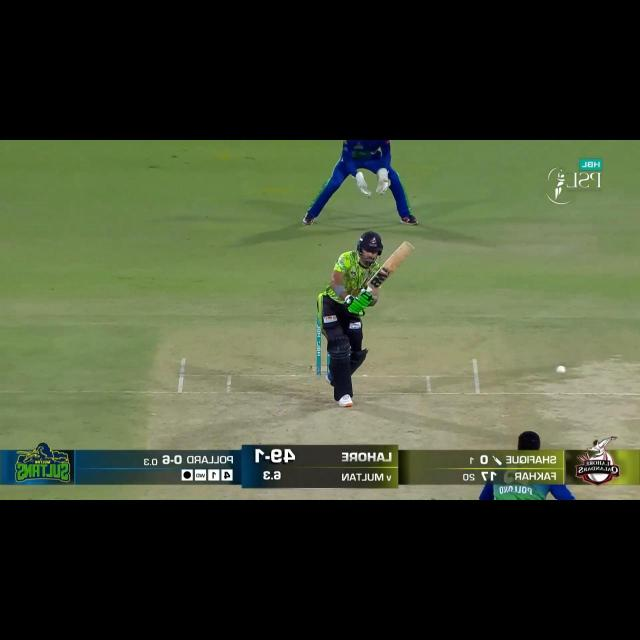bat: (366, 239, 416, 292)
toe: (398, 238, 420, 258)
